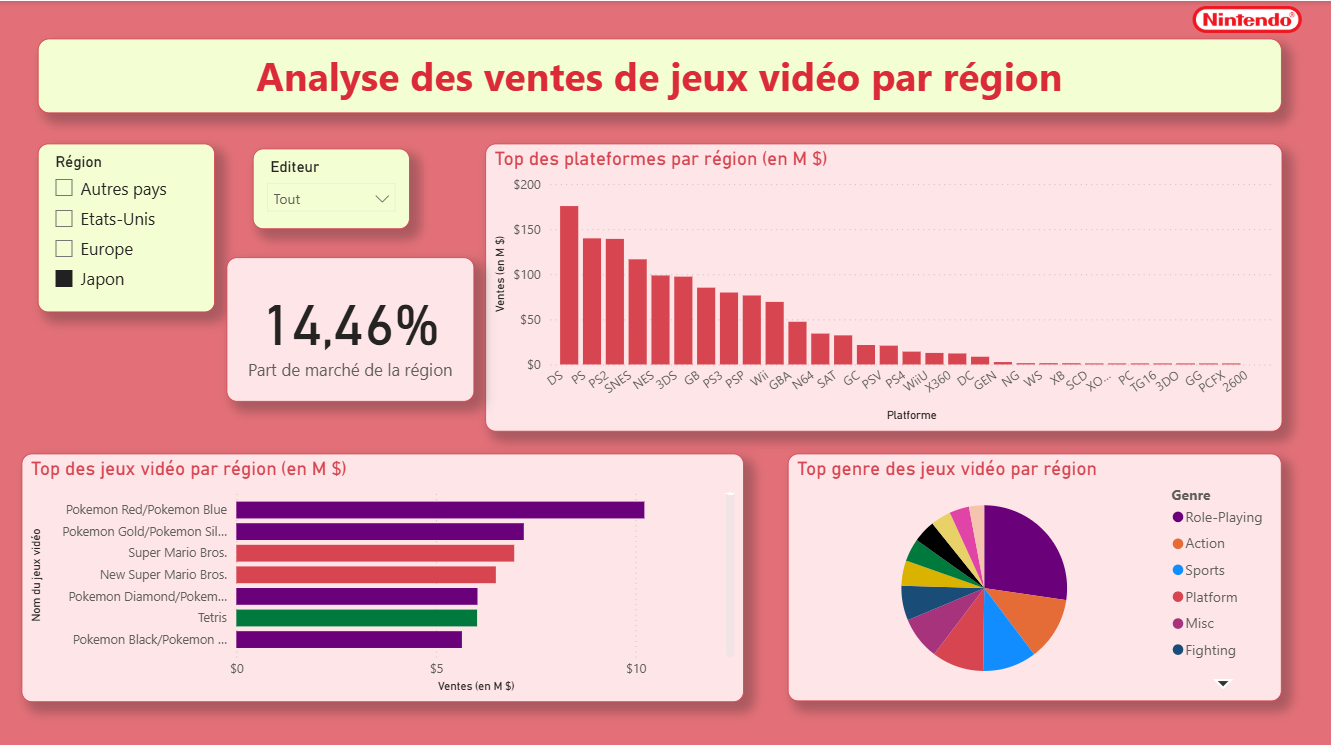

This screenshot's page, from the dashboard's own definition file:
{"tool":"powerbi","page":{"name":"Par région","canvas":[1280,720],"ordinal":1},"visuals":[{"type":"clusteredColumnChart","title":"Top des plateformes par région  (en M $)","fields":{"Category":["vgsales.Platform"],"Y":["Region.Sales by Region"]},"box":[467.9,135.8,758.8,274.4],"z":0},{"type":"slicer","fields":{"Values":["Region.Region"]},"box":[41.2,135.8,168.8,160.5],"z":1000},{"type":"clusteredBarChart","title":"Top des jeux vidéo par région  (en M $)","fields":{"Category":["vgsales.Name"],"Y":["Region.Sales by Region"]},"box":[26.2,431,688.1,236.9],"z":2000},{"type":"slicer","fields":{"Values":["vgsales.Publisher"]},"box":[247,140,149.6,76.8],"z":3000},{"type":"pieChart","title":"Top genre des jeux vidéo par région","fields":{"Y":["Region.Sales by Region"],"Category":["vgsales.Genre"]},"box":[756.1,430.9,470.7,236],"z":4000},{"type":"textbox","box":[41.7,35.7,1184.5,71.4],"z":5000},{"type":"card","fields":{"Values":["vgsales.Regional Market Share"]},"box":[220.9,244.3,236,137.2],"z":6000},{"type":"image","box":[1107.1,0,172.6,35.7],"z":7000}]}

Visuals, with their boxes in screenshot pixels (x1, y1, x2, y2), scaled from the page's 1280x720 canvas onto the 1331x745 screenshot:
"Top des plateformes par région  (en M $)" clusteredColumnChart: x1=487 y1=141 x2=1276 y2=424
slicer - Region.Region: x1=43 y1=141 x2=218 y2=307
"Top des jeux vidéo par région  (en M $)" clusteredBarChart: x1=27 y1=446 x2=743 y2=691
slicer - vgsales.Publisher: x1=257 y1=145 x2=412 y2=224
"Top genre des jeux vidéo par région" pieChart: x1=786 y1=446 x2=1276 y2=690
textbox: x1=43 y1=37 x2=1275 y2=111
card - vgsales.Regional Market Share: x1=230 y1=253 x2=475 y2=395
image: x1=1151 y1=0 x2=1330 y2=37
